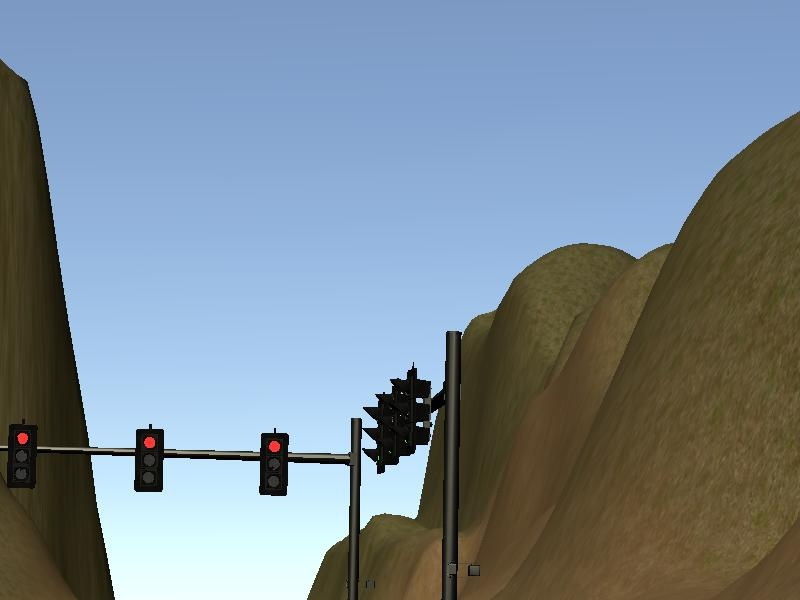red: (257, 427, 291, 502), (132, 422, 167, 494), (8, 420, 37, 490)
